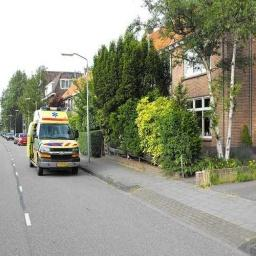ambulance: (27, 107, 79, 175)
